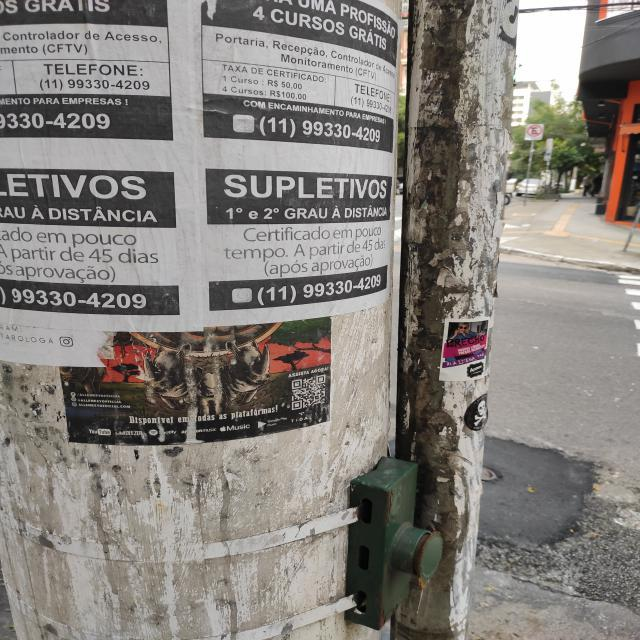qrcode: (293, 376, 327, 411)
